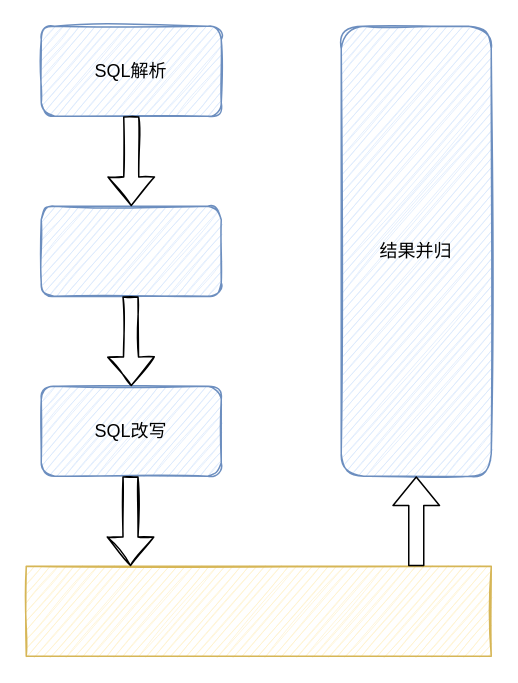
Some shapes in this 518 by 683 pixel diagram are drawn without their labels. The shapes that lost their labels are listed below. From the top down, each one's centre as x and y in pixels, then its label:
At (x=130, y=250): "SQL路由".
At (x=258, y=610): "SQL执行".
